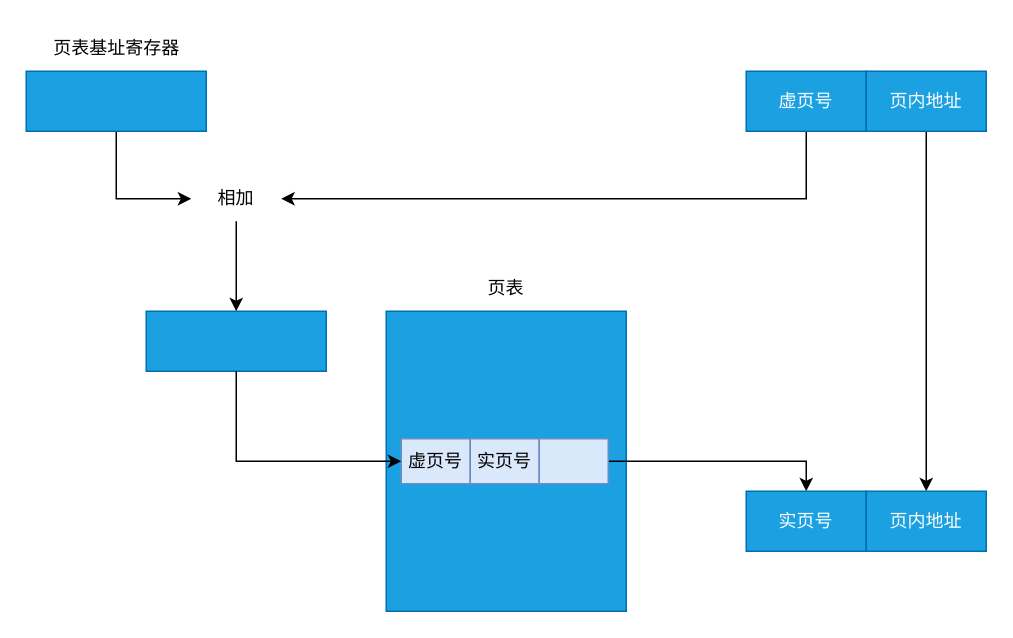
Some shapes in this 1013 by 638 pixel diagram are drawn without their labels. Each missing label, with the centre of its shape:
装入位: (x=573, y=460)
页表起始地址: (x=115, y=100)
页表项地址: (x=235, y=340)
